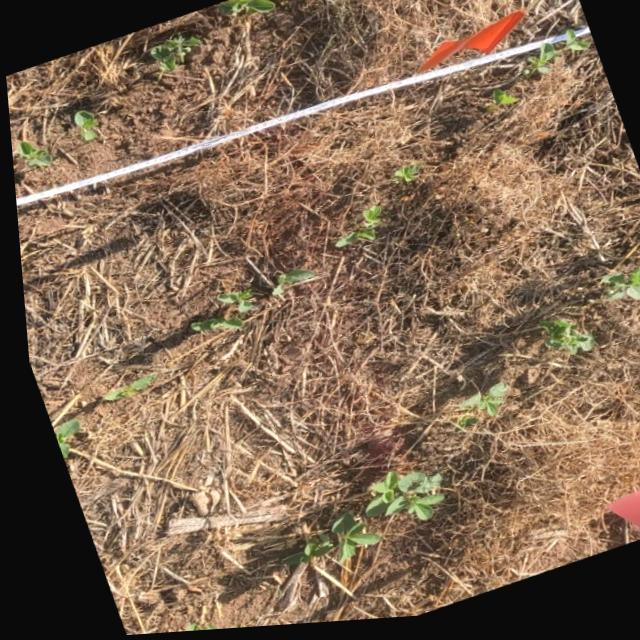soy_plant: (272, 516, 369, 565), (355, 475, 435, 524), (521, 37, 587, 80), (533, 326, 588, 361), (330, 210, 376, 251), (148, 36, 199, 72), (595, 270, 640, 307), (451, 389, 500, 421), (96, 374, 147, 400), (266, 271, 308, 297), (47, 418, 72, 458), (211, 291, 249, 316), (217, 0, 272, 17), (185, 316, 238, 333), (489, 93, 516, 111), (392, 169, 415, 185)
